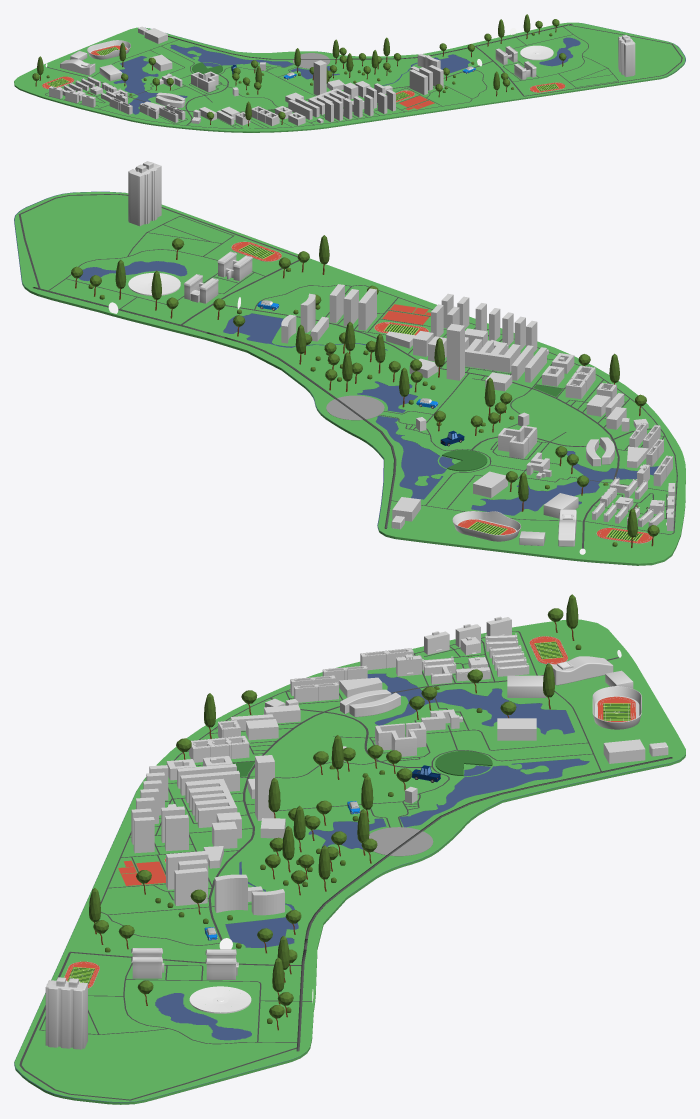
The model's file is asset.glb.
3 renders of one model, top to bottom at view 1: azimuth 30°, elevation 25°; view 2: azimuth 150°, elevation 25°; view 3: azimuth 270°, elevation 25°, orthographic. The views are drawn at different scales.
Visible parts, largest first — view 1: grassFloor, grassFloor.001, map_2.osm_roads_service, 人才公寓1栋, map_2.osm_roads_residential, map_2.osm_roads_primary, 基础实验大楼, 图书馆, 白帆运动场, 月亮湖, 白求恩广场, 游泳馆 (+16 smaller); view 2: grassFloor, grassFloor.001, map_2.osm_roads_service, 人才公寓1栋, map_2.osm_roads_residential, 基础实验大楼, 白帆运动场, 学府大道正门, map_2.osm_roads_primary, 图书馆, 月亮湖, 白求恩广场 (+9 smaller); view 3: grassFloor, grassFloor.001, map_2.osm_roads_service, 人才公寓1栋, map_2.osm_roads_residential, 基础实验大楼, 月亮湖, map_2.osm_roads_primary, 学府大道正门, 白求恩广场, 慧源楼, 游泳馆 (+18 smaller).
Part boxes in pixels (x1=…): grassFloor: x1=14, y1=22, x2=685, y2=132; grassFloor.001: x1=113, y1=24, x2=685, y2=114; map_2.osm_roads_service: x1=45, y1=26, x2=618, y2=128; 人才公寓1栋: x1=618, y1=35, x2=635, y2=76; map_2.osm_roads_residential: x1=47, y1=25, x2=682, y2=125; map_2.osm_roads_primary: x1=168, y1=24, x2=572, y2=59; 基础实验大楼: x1=308, y1=88, x2=350, y2=114; 图书馆: x1=313, y1=60, x2=326, y2=95; 白帆运动场: x1=87, y1=40, x2=130, y2=59; 月亮湖: x1=539, y1=37, x2=580, y2=66; 白求恩广场: x1=520, y1=45, x2=553, y2=60; 游泳馆: x1=60, y1=59, x2=95, y2=75; grassFloor: x1=14, y1=191, x2=685, y2=565; grassFloor.001: x1=14, y1=191, x2=658, y2=530; map_2.osm_roads_service: x1=48, y1=216, x2=677, y2=534; 人才公寓1栋: x1=128, y1=161, x2=161, y2=226; map_2.osm_roads_residential: x1=18, y1=194, x2=651, y2=548; 基础实验大楼: x1=465, y1=337, x2=520, y2=372; 白帆运动场: x1=452, y1=511, x2=521, y2=541; 学府大道正门: x1=326, y1=395, x2=384, y2=420; map_2.osm_roads_primary: x1=33, y1=287, x2=396, y2=528; 图书馆: x1=446, y1=323, x2=464, y2=380; 月亮湖: x1=79, y1=261, x2=187, y2=281; 白求恩广场: x1=128, y1=273, x2=180, y2=295; grassFloor: x1=14, y1=619, x2=685, y2=1104; grassFloor.001: x1=14, y1=673, x2=684, y2=1102; map_2.osm_roads_service: x1=39, y1=631, x2=601, y2=1044; 人才公寓1栋: x1=45, y1=977, x2=87, y2=1049; map_2.osm_roads_residential: x1=19, y1=657, x2=618, y2=1100; 基础实验大楼: x1=185, y1=778, x2=237, y2=827; 月亮湖: x1=155, y1=993, x2=251, y2=1040; map_2.osm_roads_primary: x1=296, y1=757, x2=672, y2=1051; 学府大道正门: x1=369, y1=827, x2=433, y2=856; 白求恩广场: x1=189, y1=986, x2=251, y2=1013; 慧源楼: x1=340, y1=689, x2=400, y2=717; 游泳馆: x1=547, y1=656, x2=613, y2=685.
Size of what is drawn, in the model's own units: 21.18 by 1.36 by 12.46.
Materials: 35 (4 with a texture image).
